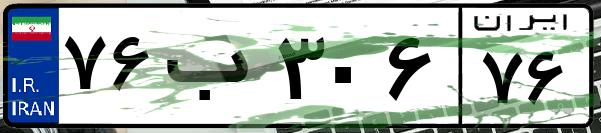0: (330, 28, 385, 110)
3: (270, 28, 330, 110)
6: (385, 28, 445, 110), (525, 38, 570, 115), (110, 28, 158, 98)
7: (57, 26, 110, 100), (475, 38, 525, 113)
ب: (158, 20, 270, 120)
